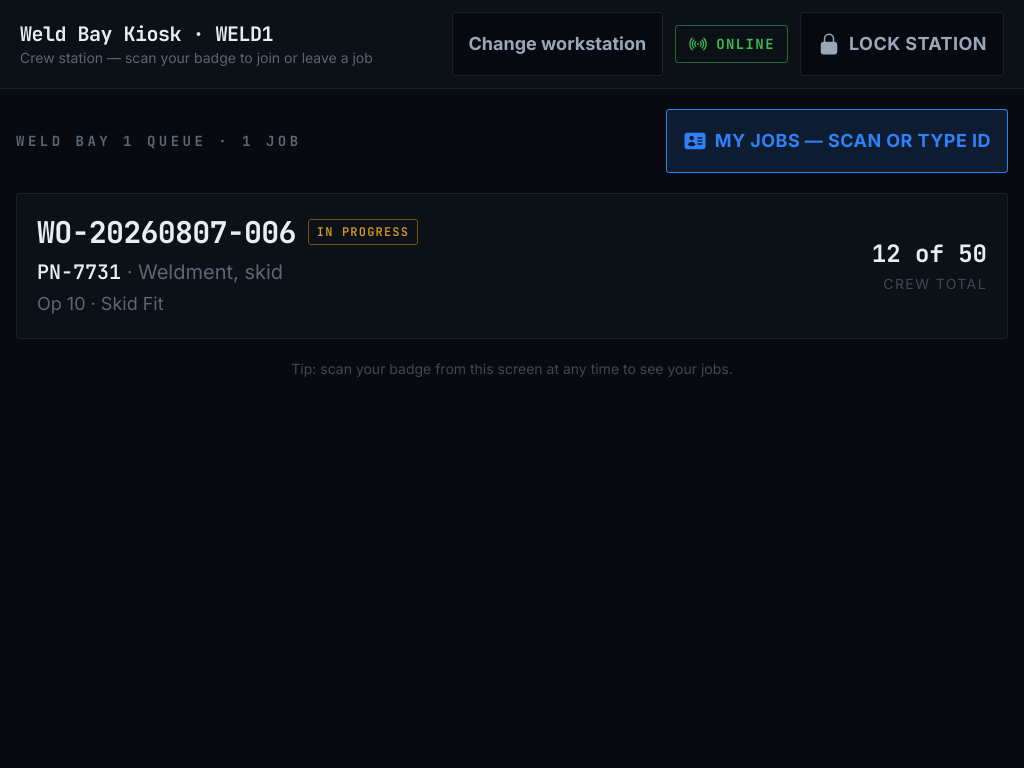
CrewStationKiosk — job instructions on the job detail screen › keeps the action verbs reachable — the notes block is what scrolls, not the screen
Click the button "WO-20260807-006": (166, 232) [16,193,1008,339]
(page scrolled)
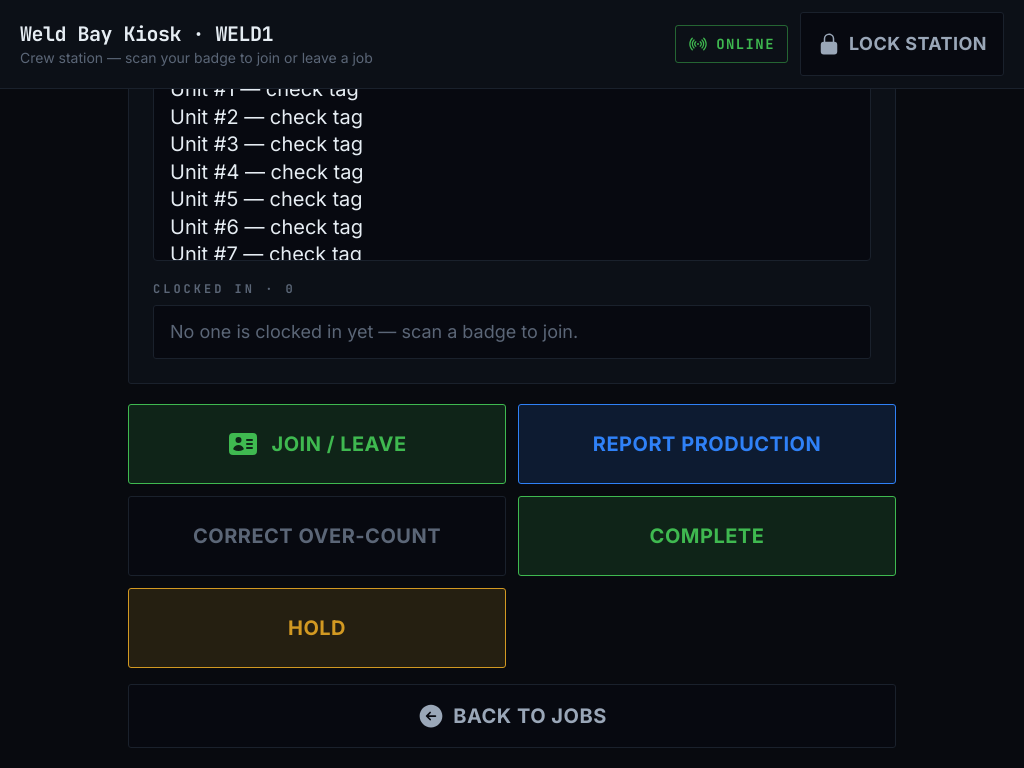
Check: the button "Complete" is shown, box [518,496,896,576]
